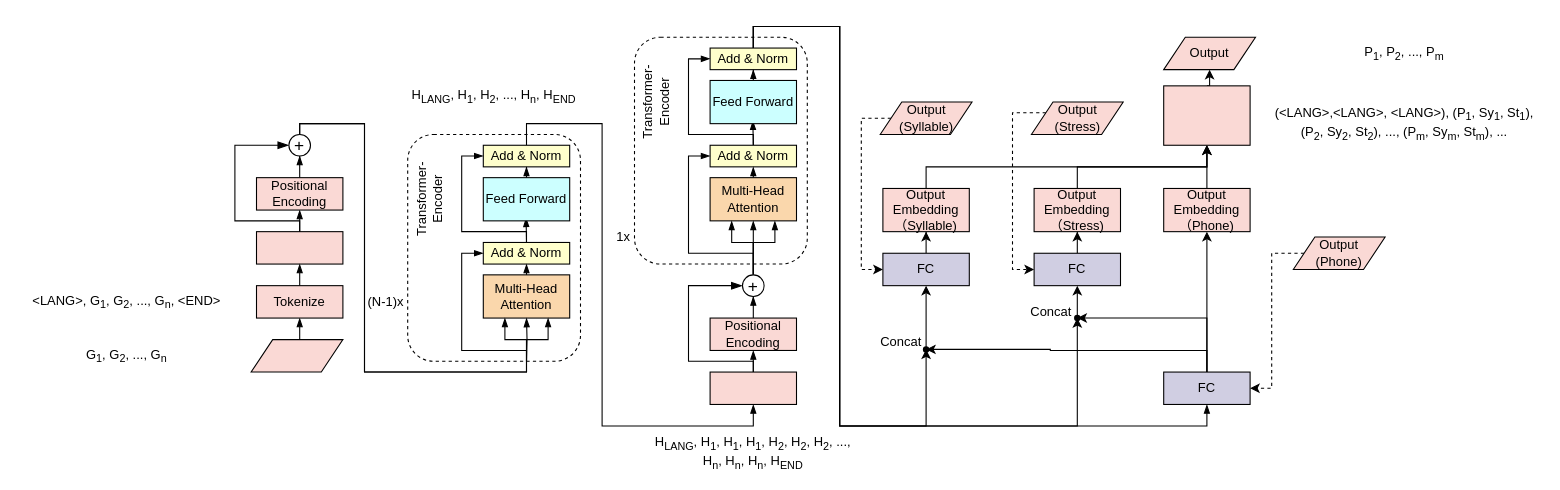
Some shapes in this 1560 by 490 pixel diagram are drawn without their labels. Here are the shapes that lost their labels. From the top down, the box of each, then its label:
(1163, 85, 1250, 145): Softmax & Deduplicate & Trim & Postprocess
(255, 231, 343, 264): Input Embedding
(250, 339, 343, 372): Input
(709, 371, 796, 404): Repeat
